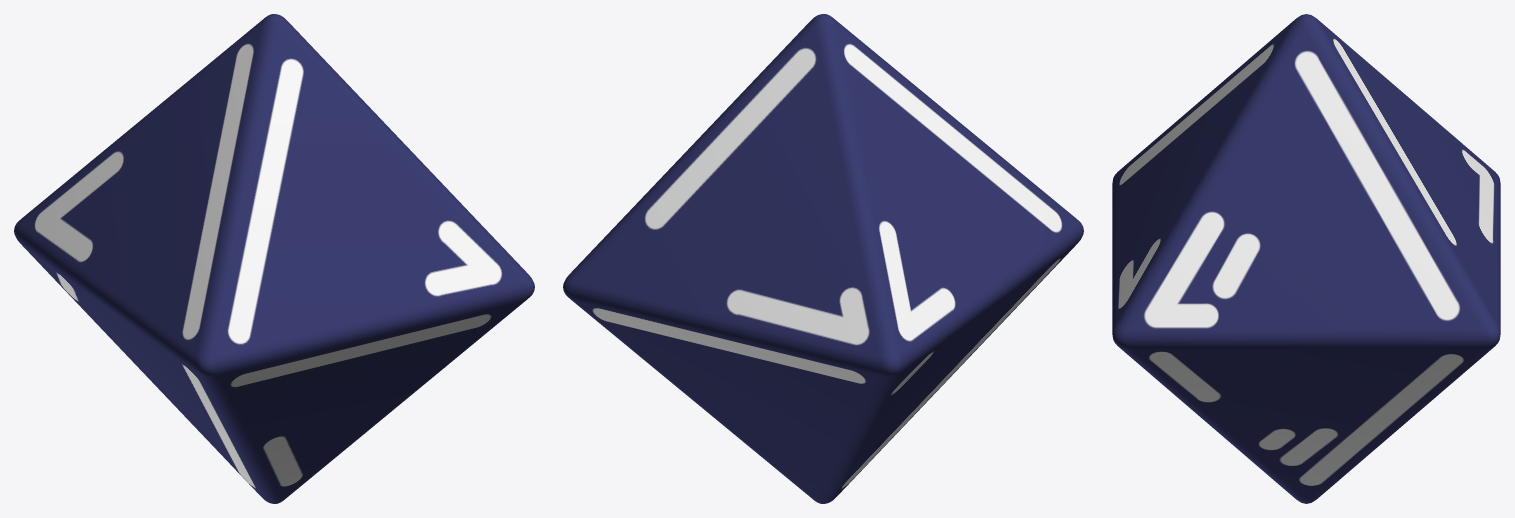
3 renders of one model, left to right at view 1: azimuth 30°, elevation 25°; view 2: azimuth 150°, elevation 25°; view 3: azimuth 270°, elevation 25°, orthographic.
Visible parts, largest first — view 1: Hedra001; view 2: Hedra001; view 3: Hedra001.
Part boxes in pixels (left/top/right/bottom): Hedra001: left=14, top=14, right=534, bottom=503; Hedra001: left=563, top=14, right=1083, bottom=503; Hedra001: left=1112, top=14, right=1500, bottom=503.
Size of the model in its own units: 6.93 by 9.61 by 6.93.
Materials: 1 (1 with a texture image).
